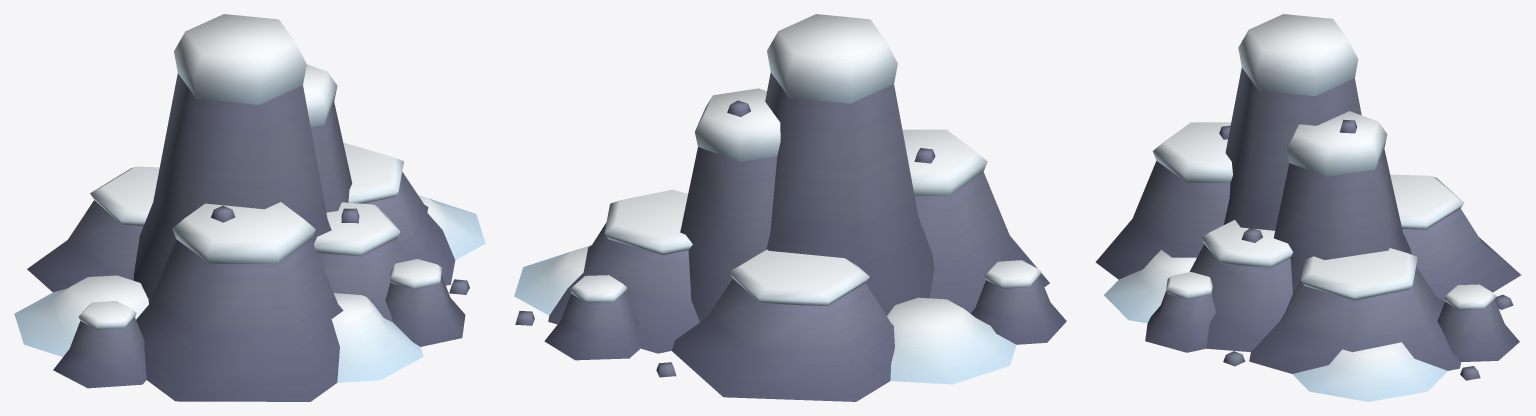
Rendered from holiday-rocks-large.glb.
The picture shows the model from 3 angles, left to right: view 1: azimuth 30°, elevation 25°; view 2: azimuth 150°, elevation 25°; view 3: azimuth 270°, elevation 25°; orthographic projection. The views are drawn at different scales.
Visible parts, largest first — view 1: rocks-large; view 2: rocks-large; view 3: rocks-large.
Part boxes in pixels (x1=…): rocks-large: x1=14, y1=14, x2=485, y2=401; rocks-large: x1=514, y1=14, x2=1066, y2=401; rocks-large: x1=1095, y1=14, x2=1521, y2=401.
Bounding box in the file's own units: 3.14 × 1.71 × 2.69.
1 material, 1 textured.
